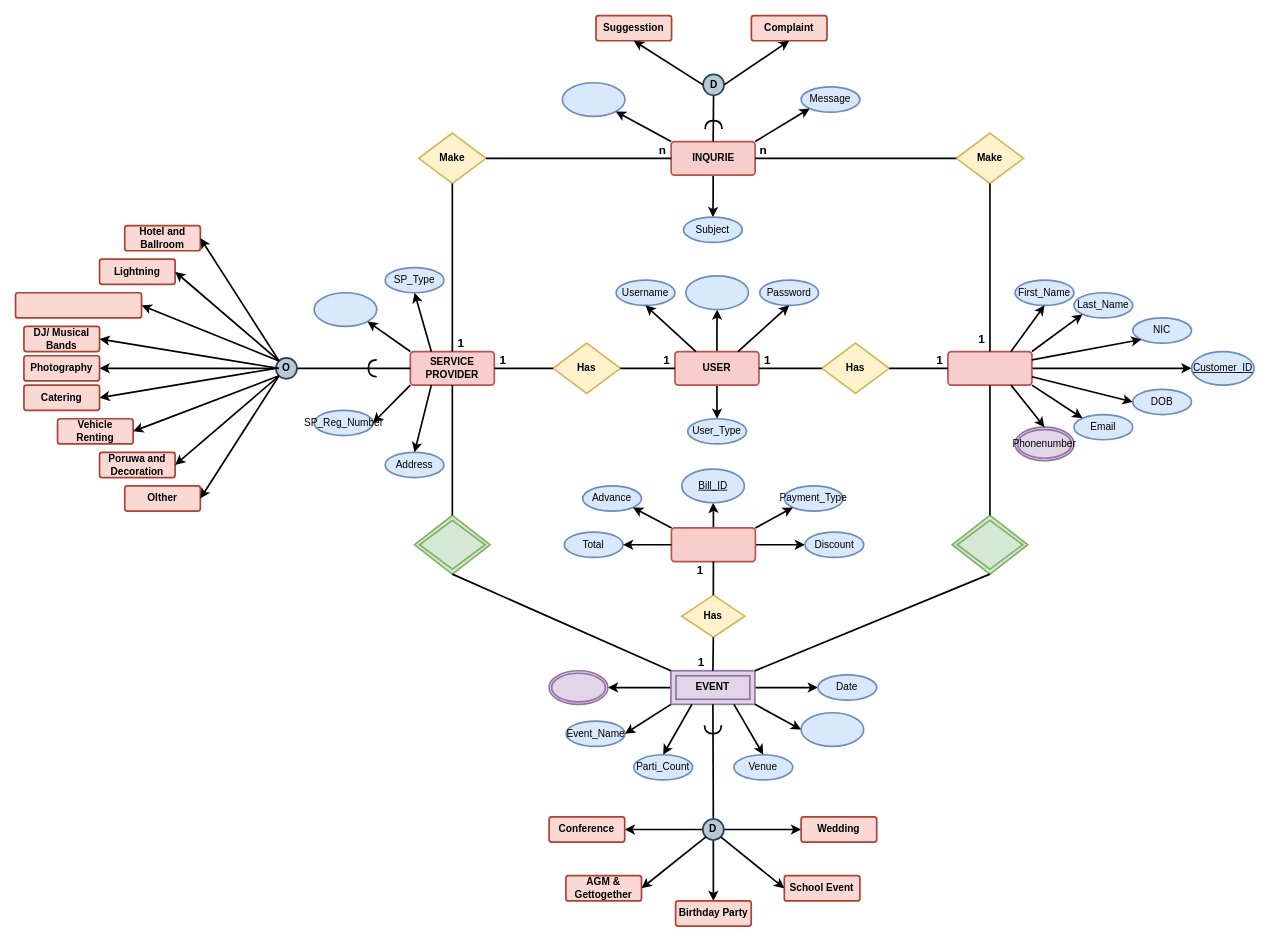
Image size: 1269x941. Some labels were removed from this diagram. Each missing label, with the centre of its shape:
"BILL" goes at point (713, 544).
"Creates" goes at point (989, 544).
"CUSTOMER" goes at point (989, 368).
"Event_ID" goes at point (832, 729).
"Inquire_ID" goes at point (593, 99).
"SP_ID" goes at point (345, 309).
"Time" goes at point (578, 687).
"Traditional Ceremonial Services" goes at point (78, 304).
"User_ID" goes at point (717, 292).
"Works in" goes at point (452, 544).
